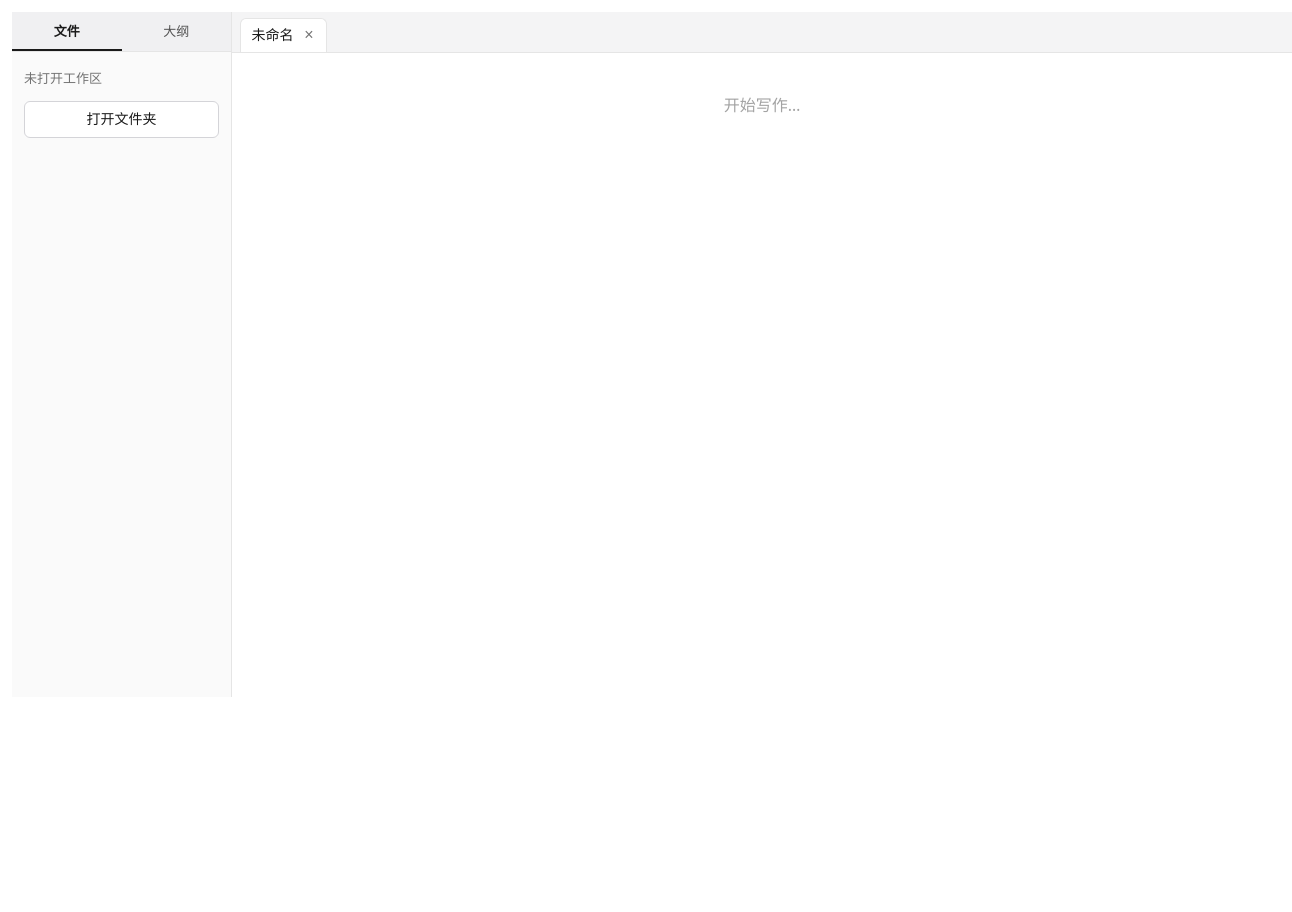
Test: App file workflow › closing the last tab shows empty state without auto untitled
This screenshot has width=1292, height=912.
What coordinates should you click on to do the following:
click the button named "关闭 未命名"
I would click on:
 (309, 35)
Its box is x1=299 y1=25 x2=319 y2=45.
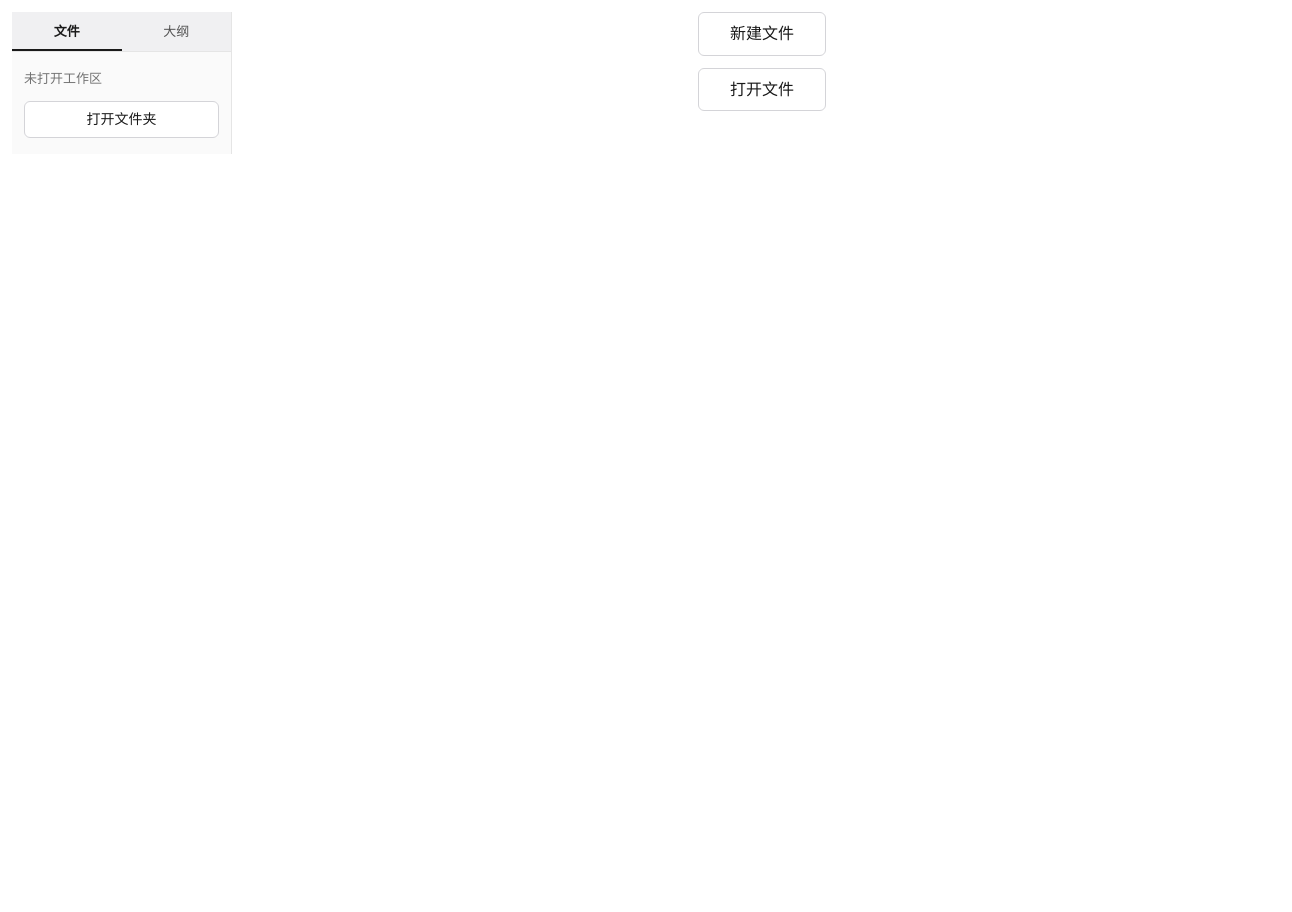
Expected: the element with test id "editor" is gone
Expected: the button "新建文件" is shown, x1=698 y1=12 x2=826 y2=56
Expected: the button "打开文件" is shown, x1=698 y1=68 x2=826 y2=111
